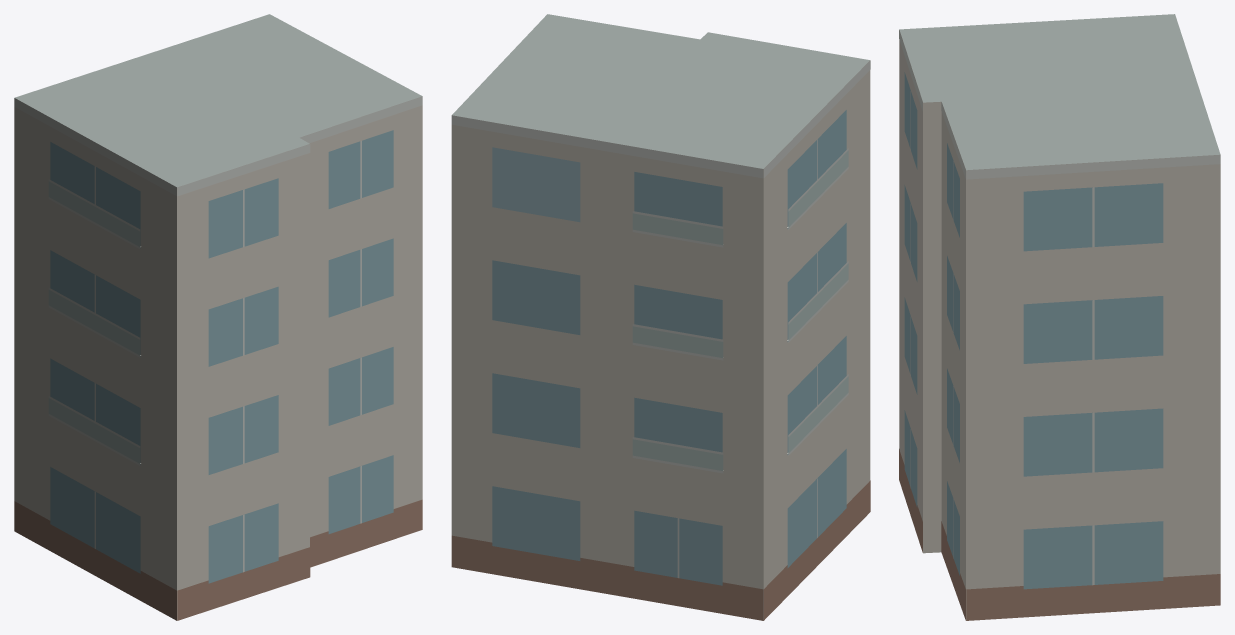
Rendered from survey-upis-32508534.glb.
The picture shows the model from 3 angles, left to right: view 1: azimuth 30°, elevation 25°; view 2: azimuth 150°, elevation 25°; view 3: azimuth 270°, elevation 25°; orthographic projection. The views are drawn at different scales.
Parts seen in each view (by area): view 1: survey-upis-32508534.tmp; view 2: survey-upis-32508534.tmp; view 3: survey-upis-32508534.tmp.
Part boxes in pixels (x1,y1,x2,y2): survey-upis-32508534.tmp: (14,14,422,620); survey-upis-32508534.tmp: (451,14,870,620); survey-upis-32508534.tmp: (899,14,1220,620).
Bounding box in the file's own units: 8.71 × 11.7 × 7.57.
